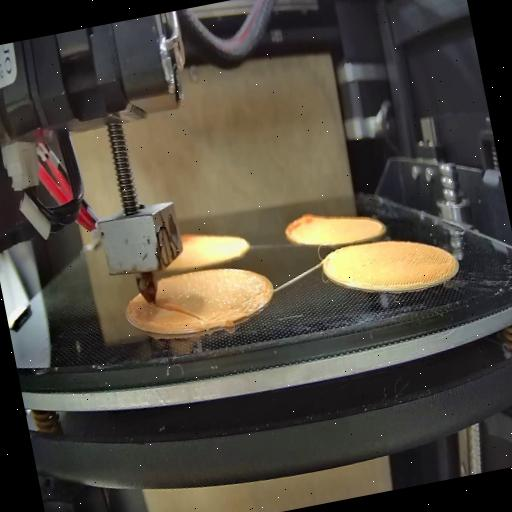over_extrusion: (152, 292, 204, 332), (280, 210, 322, 249)
